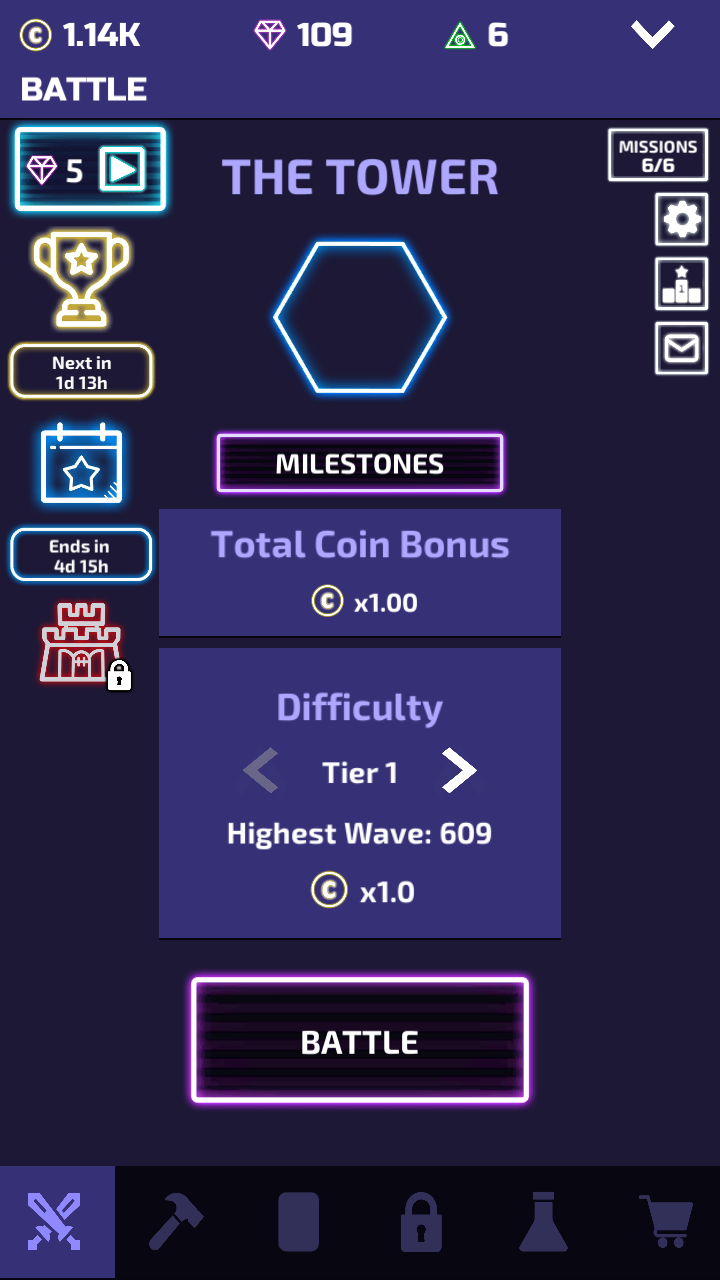O_Battle: (185, 970, 534, 1111)
O_Gem_Ad: (12, 121, 173, 219)
